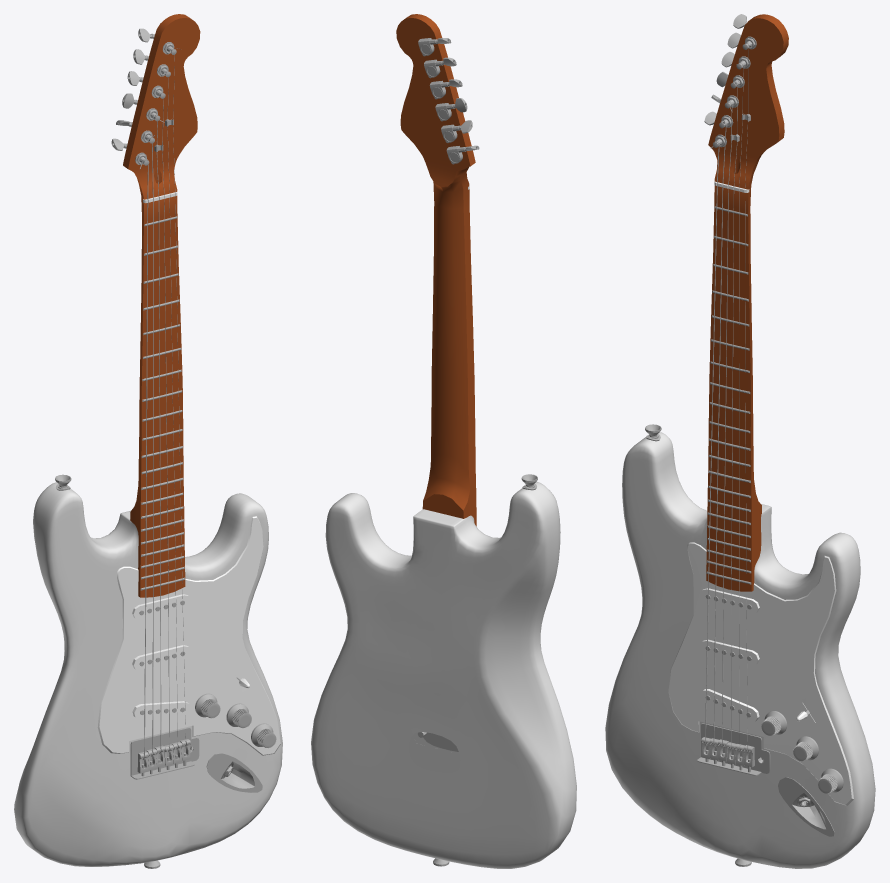
Rendered from Guitar.fbx.
3 renders of one model, left to right at view 1: azimuth 30°, elevation 25°; view 2: azimuth 150°, elevation 25°; view 3: azimuth 330°, elevation 25°, orthographic.
Visible parts, largest first — view 1: body.001, body.002; view 2: body.002, body.001; view 3: body.001, body.002.
Part boxes in pixels (x1,y1,x2,y2): body.001: (55,14,280,868); body.002: (14,482,282,866); body.002: (311,481,576,868); body.001: (396,14,537,866); body.001: (645,14,853,866); body.002: (605,432,875,868).
Size of the model in its own units: 0.3193 by 0.9984 by 0.0698.
